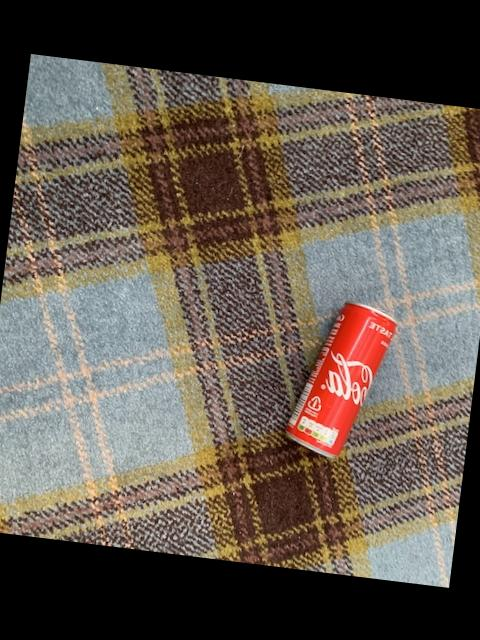metal: (285, 301, 395, 454)
